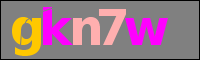7: (98, 7, 128, 51)
g: (11, 16, 42, 60)
k: (42, 5, 74, 51)
n: (72, 16, 102, 46)
w: (123, 15, 170, 47)
